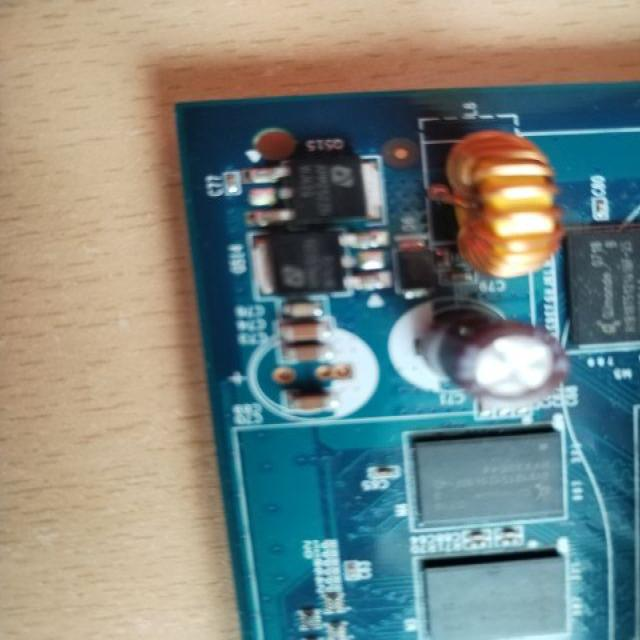capacitor: (269, 316, 343, 349)
